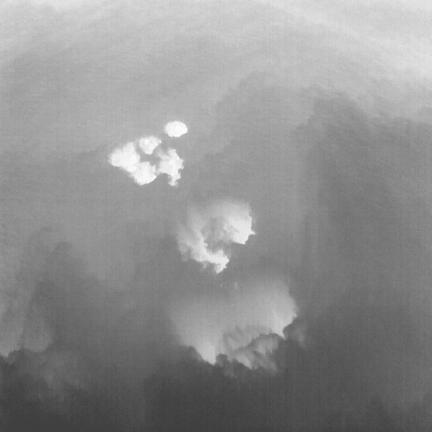flukeprints: (157, 148, 183, 186), (109, 142, 140, 171), (130, 161, 157, 185), (138, 136, 161, 154), (165, 121, 187, 137)
